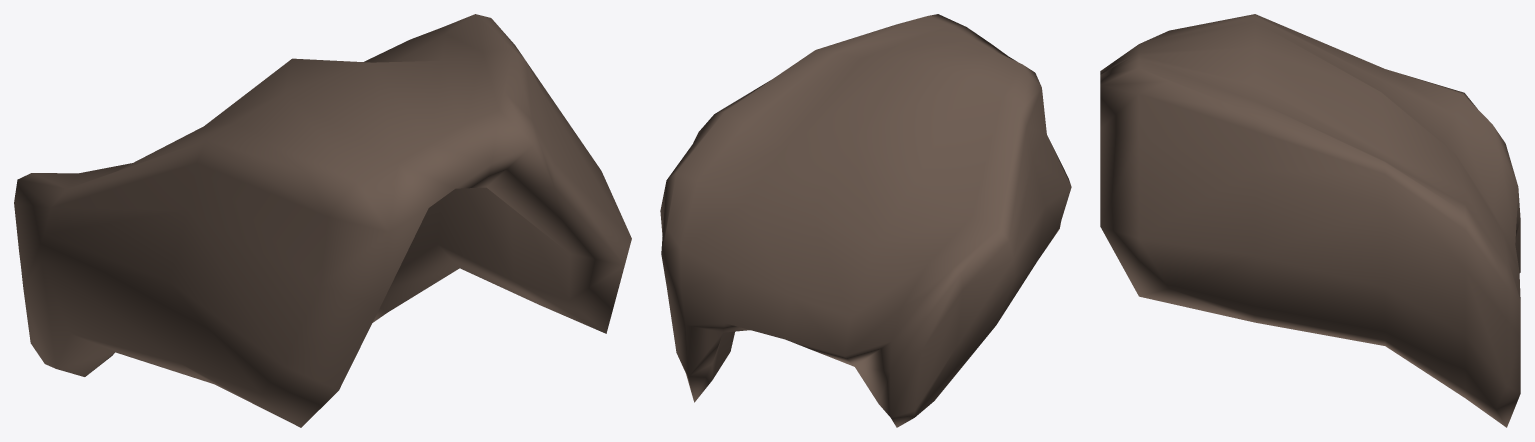
Rendered from SM_Cave_S.fbx.
3 renders of one model, left to right at view 1: azimuth 30°, elevation 25°; view 2: azimuth 150°, elevation 25°; view 3: azimuth 270°, elevation 25°, orthographic. The views are drawn at different scales.
Parts seen in each view (by area): view 1: SM_Cave_S; view 2: SM_Cave_S; view 3: SM_Cave_S.
Boxes of the visible parts, x1,y1,x2,y2 form: SM_Cave_S: (14, 14, 631, 427); SM_Cave_S: (660, 14, 1071, 427); SM_Cave_S: (1100, 14, 1520, 427).
Size of the model in its own units: 1335 by 1089 by 1282.
